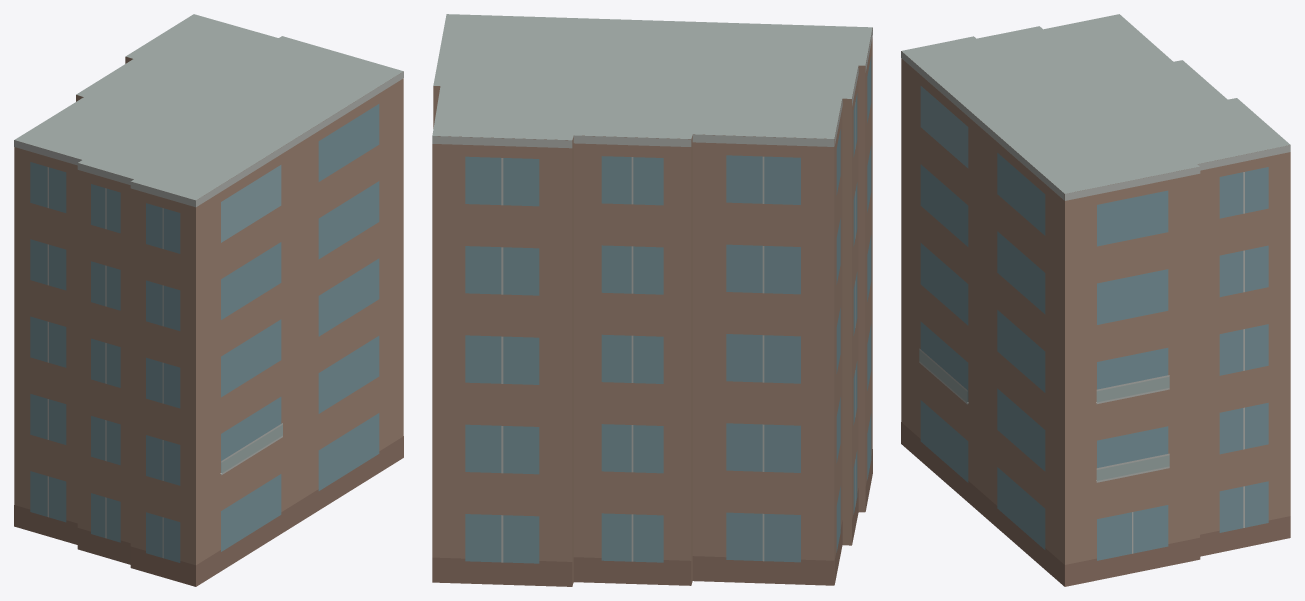
Rendered from survey-upis-32658669.glb.
The picture shows the model from 3 angles, left to right: view 1: azimuth 30°, elevation 25°; view 2: azimuth 150°, elevation 25°; view 3: azimuth 270°, elevation 25°; orthographic projection. The views are drawn at different scales.
Parts seen in each view (by area): view 1: survey-upis-32658669.tmp; view 2: survey-upis-32658669.tmp; view 3: survey-upis-32658669.tmp.
Part boxes in pixels (bbox=[...]): survey-upis-32658669.tmp: bbox=[14, 14, 403, 586]; survey-upis-32658669.tmp: bbox=[432, 14, 872, 586]; survey-upis-32658669.tmp: bbox=[901, 14, 1290, 586].
Size of the model in its own units: 13.36 by 13.6 by 12.23.
